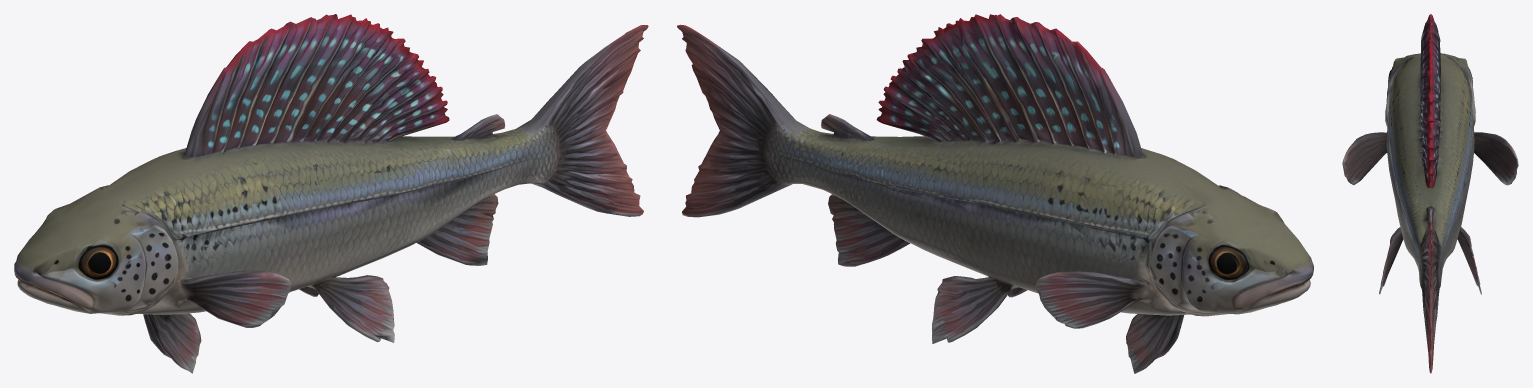
The model's file is fish-harius.glb.
3 renders of one model, left to right at view 1: azimuth 30°, elevation 25°; view 2: azimuth 150°, elevation 25°; view 3: azimuth 270°, elevation 25°, orthographic. The views are drawn at different scales.
Visible parts, largest first — view 1: tripo_node_69872c91-4509-4d60-8c0f-b982f581030a; view 2: tripo_node_69872c91-4509-4d60-8c0f-b982f581030a; view 3: tripo_node_69872c91-4509-4d60-8c0f-b982f581030a.
Boxes of the visible parts, x1,y1,x2,y2 form: tripo_node_69872c91-4509-4d60-8c0f-b982f581030a: (14, 14, 648, 373); tripo_node_69872c91-4509-4d60-8c0f-b982f581030a: (677, 14, 1313, 373); tripo_node_69872c91-4509-4d60-8c0f-b982f581030a: (1342, 14, 1518, 373).
Bounding box in the file's own units: 1 × 0.4809 × 0.3094.
Materials: 1 (1 with a texture image).
